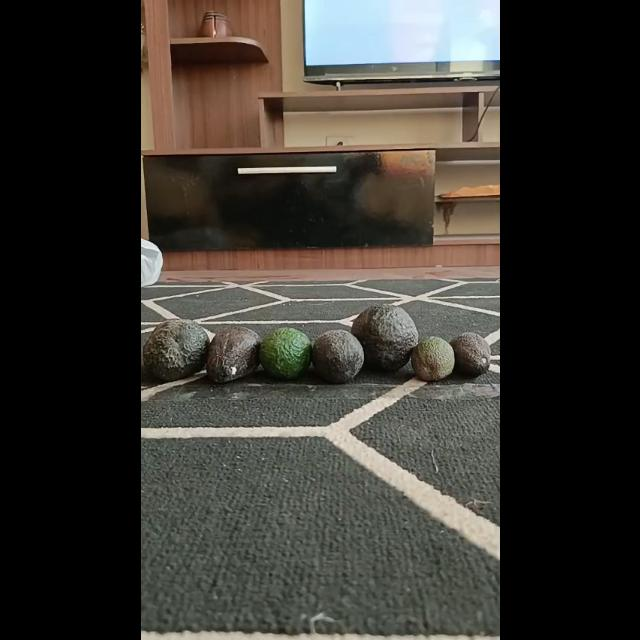Primera: (349, 302, 419, 370), (142, 318, 208, 380)
Segunda: (204, 326, 262, 382), (311, 329, 364, 383), (258, 326, 312, 378)
Tercera: (410, 335, 454, 381), (448, 332, 490, 376)
